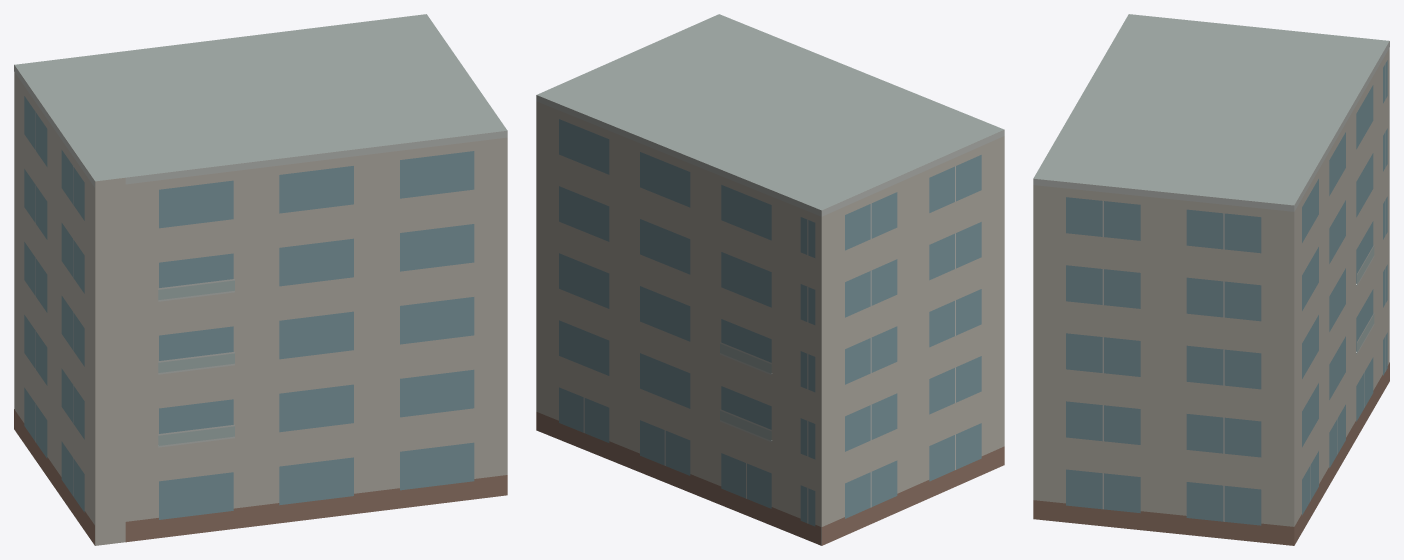
File: survey-upis-32545944.glb
3 renders of one model, left to right at view 1: azimuth 30°, elevation 25°; view 2: azimuth 150°, elevation 25°; view 3: azimuth 270°, elevation 25°, orthographic. The views are drawn at different scales.
Visible parts, largest first — view 1: survey-upis-32545944.tmp; view 2: survey-upis-32545944.tmp; view 3: survey-upis-32545944.tmp.
Part boxes in pixels (x1,y1,x2,y2): survey-upis-32545944.tmp: [14, 14, 507, 545]; survey-upis-32545944.tmp: [536, 14, 1004, 545]; survey-upis-32545944.tmp: [1033, 14, 1389, 545].
Size of the model in its own units: 15.69 by 13 by 12.35.
